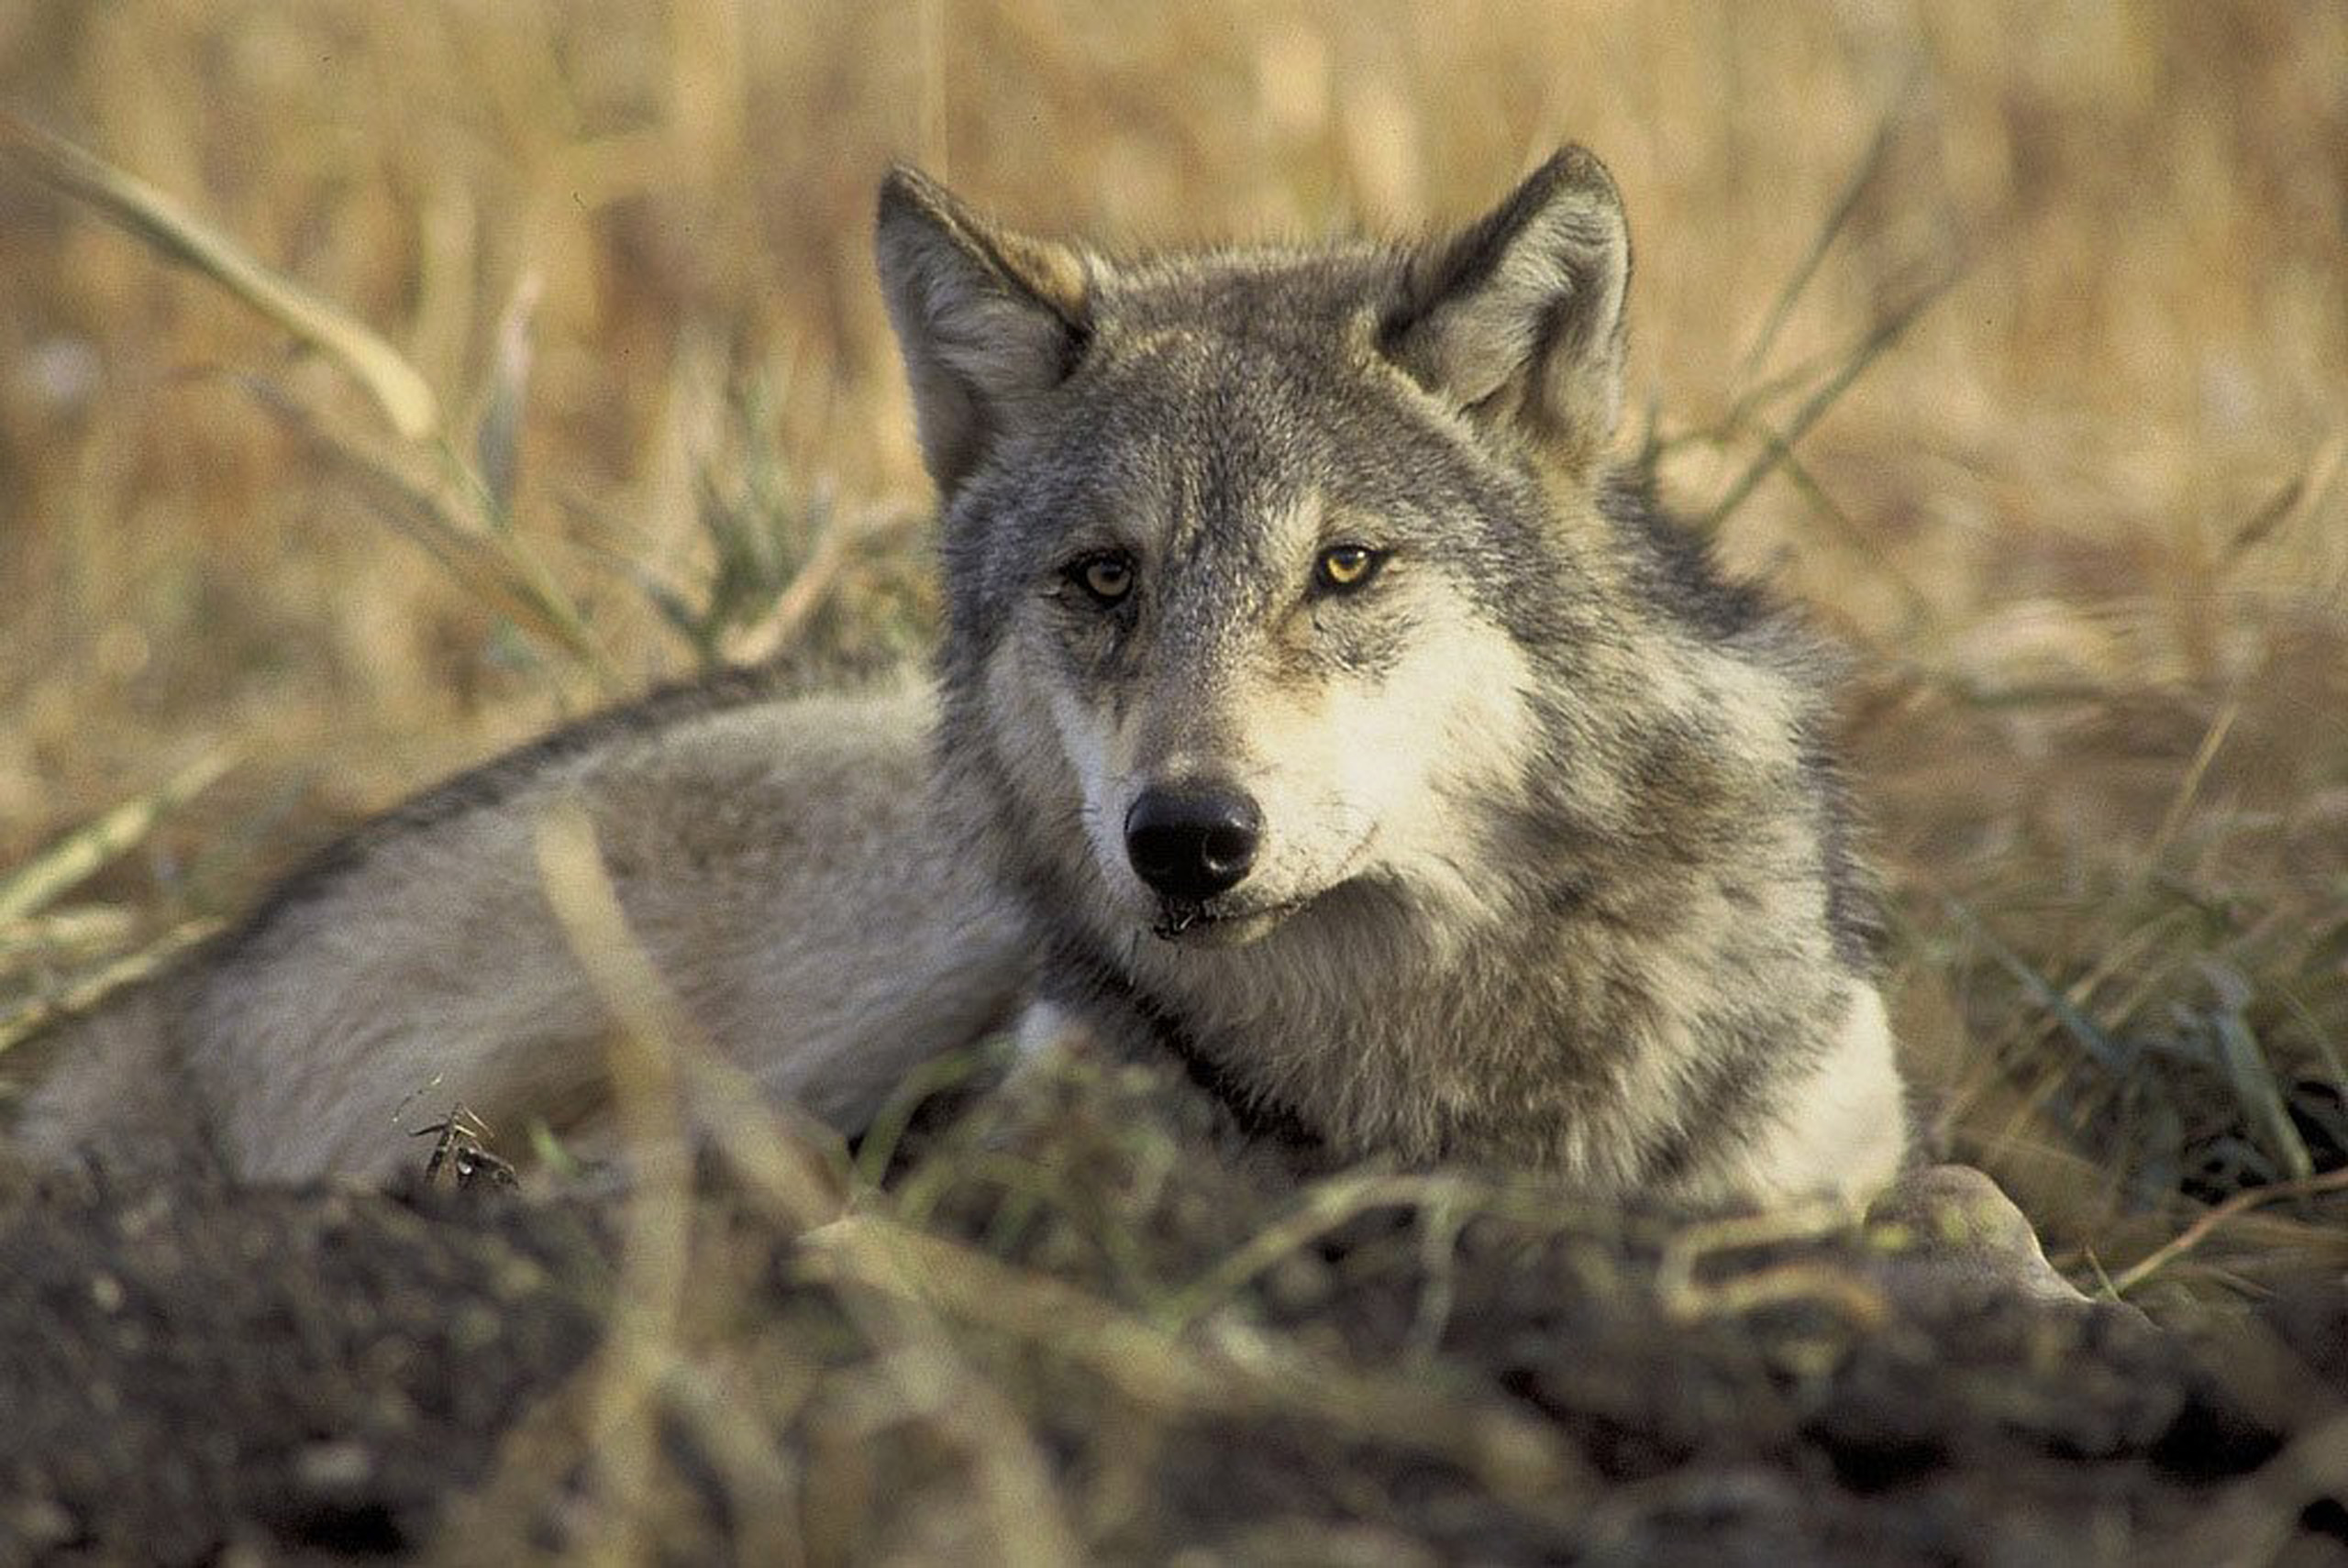wolf: (2, 163, 2030, 1277)
